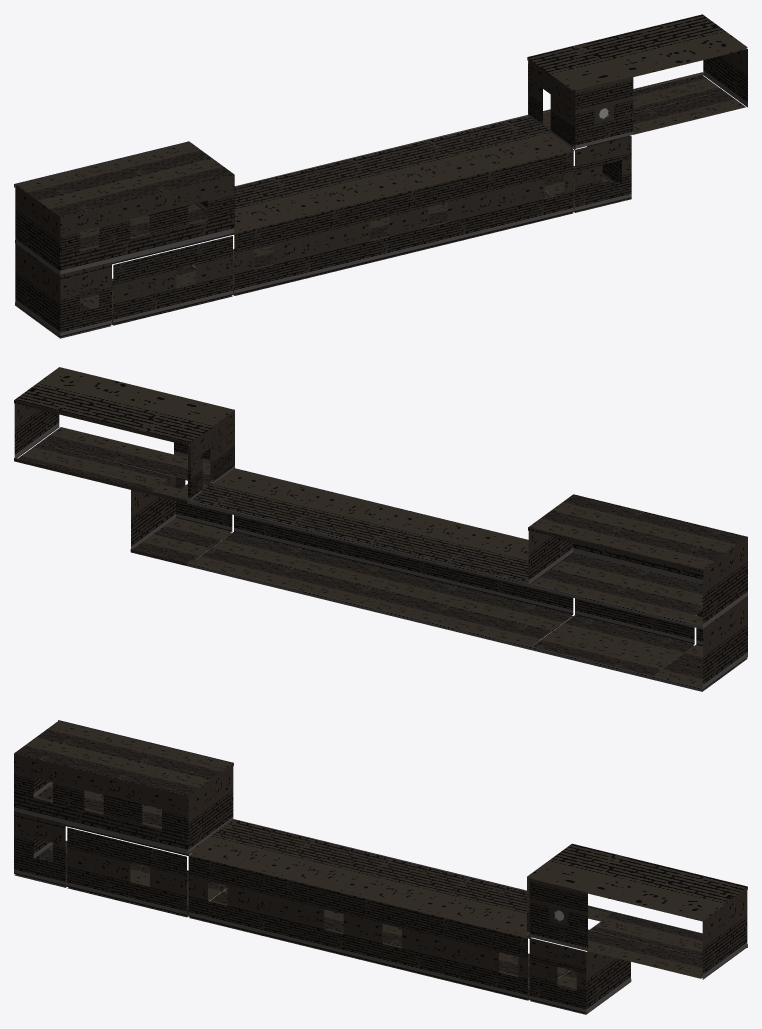
File: Floors.fbx
3 views of the same model, one above another, from view 1: azimuth 30°, elevation 25°; view 2: azimuth 150°, elevation 25°; view 3: azimuth 330°, elevation 25° (orthographic).
Parts seen in each view (by area): view 1: polySurface3, pPlane45, pPlane40, pPlane36, pPlane55, polySurface5, Floor_CapQtrs, polySurface1, pPlane29, pPlane50, pPlane51, pPlane52 (+7 smaller); view 2: pPlane43, pPlane45, pPlane36, pPlane55, Floor_CapQtrs, pPlane53, polySurface3, pPlane46, pCube3, pPlane51, pPlane52, pCube2 (+11 smaller); view 3: polySurface3, pPlane45, pPlane40, pPlane36, pPlane55, polySurface5, Floor_CapQtrs, polySurface1, pPlane29, pPlane50, pPlane31, pPlane54 (+5 smaller).
Boxes of the visible parts, <box> form: polySurface3: <box>234,151,573,294</box>; pPlane45: <box>234,116,574,233</box>; pPlane40: <box>60,175,234,274</box>; pPlane36: <box>528,15,747,90</box>; pPlane55: <box>16,142,233,216</box>; polySurface5: <box>113,236,232,324</box>; Floor_CapQtrs: <box>543,74,745,149</box>; polySurface1: <box>575,136,631,211</box>; pPlane29: <box>575,76,633,148</box>; pPlane50: <box>60,262,111,336</box>; pPlane51: <box>15,244,60,336</box>; pPlane52: <box>15,185,60,275</box>; pPlane43: <box>191,532,572,646</box>; pPlane45: <box>191,468,528,582</box>; pPlane36: <box>15,367,234,442</box>; pPlane55: <box>529,494,747,569</box>; Floor_CapQtrs: <box>18,427,210,499</box>; pPlane53: <box>531,553,747,626</box>; polySurface3: <box>234,515,573,614</box>; pPlane46: <box>532,615,694,675</box>; pCube3: <box>14,458,702,629</box>; pPlane51: <box>703,596,747,689</box>; pPlane52: <box>703,537,747,628</box>; pCube2: <box>130,549,702,691</box>; polySurface3: <box>188,855,527,999</box>; pPlane45: <box>189,819,531,938</box>; pPlane40: <box>14,754,188,855</box>; pPlane36: <box>527,844,746,919</box>; pPlane55: <box>14,721,232,795</box>; polySurface5: <box>67,827,186,915</box>; Floor_CapQtrs: <box>528,907,702,978</box>; polySurface1: <box>529,938,586,1013</box>; pPlane29: <box>529,878,587,951</box>; pPlane50: <box>14,811,65,886</box>; pPlane31: <box>702,889,747,979</box>; pPlane54: <box>188,763,233,854</box>.
Bounding box in the file's own units: 10664 × 1828 × 1217.
